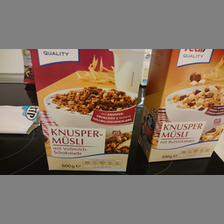cereal: (29, 48, 146, 171), (141, 51, 224, 163)
